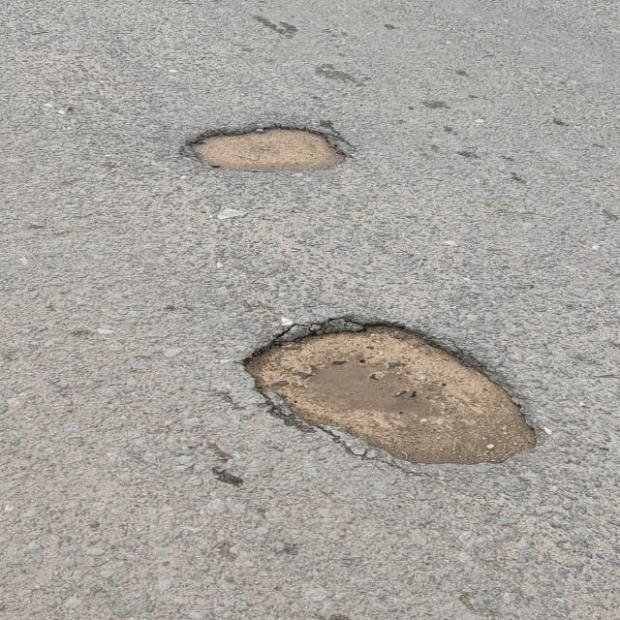lubang: (245, 320, 536, 463), (185, 127, 347, 170)
